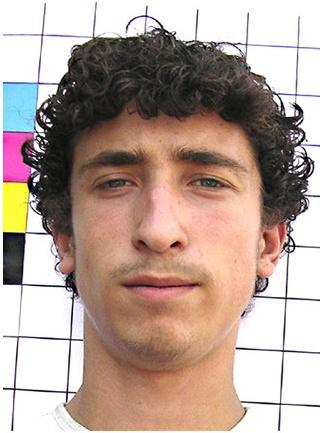No Mask: (30, 34, 306, 396)
